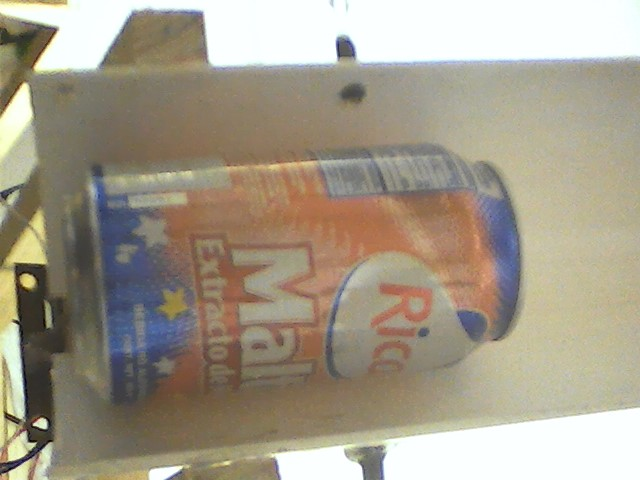lata: (56, 140, 534, 415)
